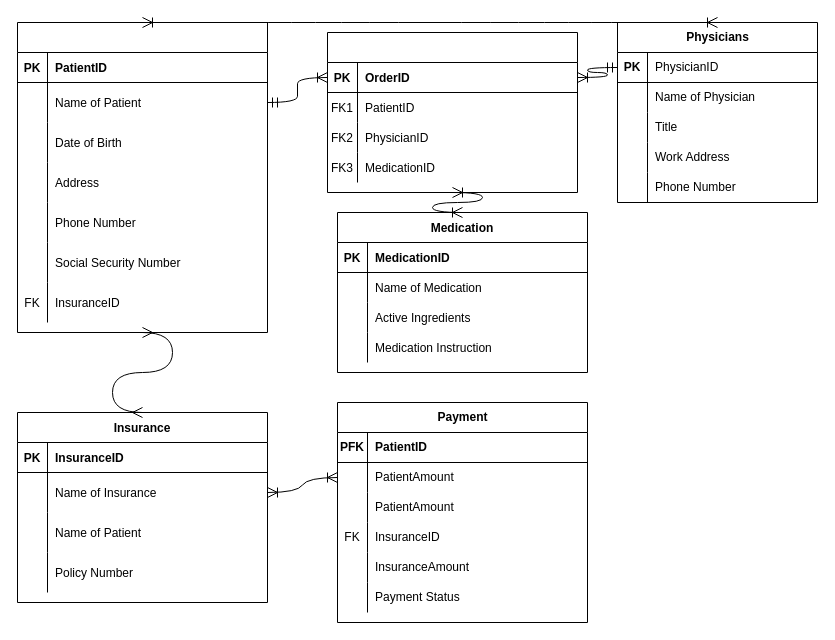
This 835x640 diagram has some shape labels left out. The shapes that lost their labels are listed below. From the top down, each one's box as (x1, y1, x2, y2) in pixels, then its label:
(326, 32, 578, 192): Prescriptions
(16, 22, 268, 332): Patients
